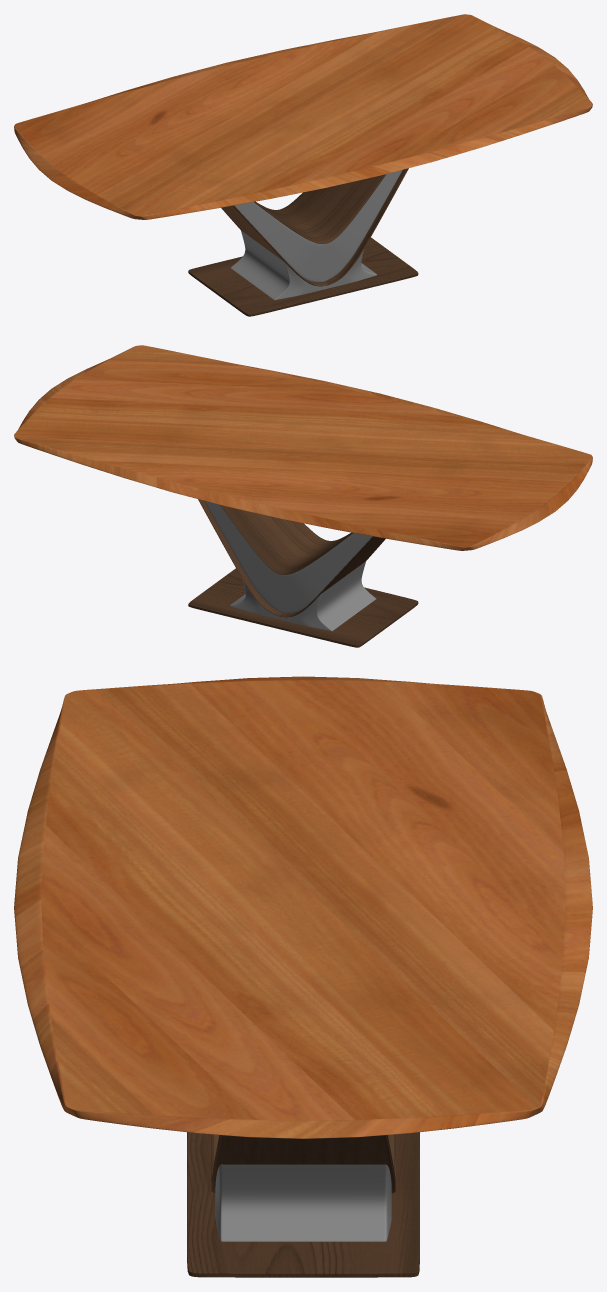
File: St_Hilker_Strauss.glb
3 views of the same model, one above another, from view 1: azimuth 30°, elevation 25°; view 2: azimuth 150°, elevation 25°; view 3: azimuth 270°, elevation 25° (orthographic). The views are drawn at different scales.
Parts seen in each view (by area): view 1: Strauss; view 2: Strauss; view 3: Strauss.
Boxes of the visible parts, left/top/right/bottom form: Strauss: left=14, top=14, right=592, bottom=316; Strauss: left=14, top=345, right=592, bottom=647; Strauss: left=14, top=676, right=592, bottom=1277.
Bounding box in the file's own units: 2.67 × 0.8045 × 1.41.
Materials: 4 (3 with a texture image).
